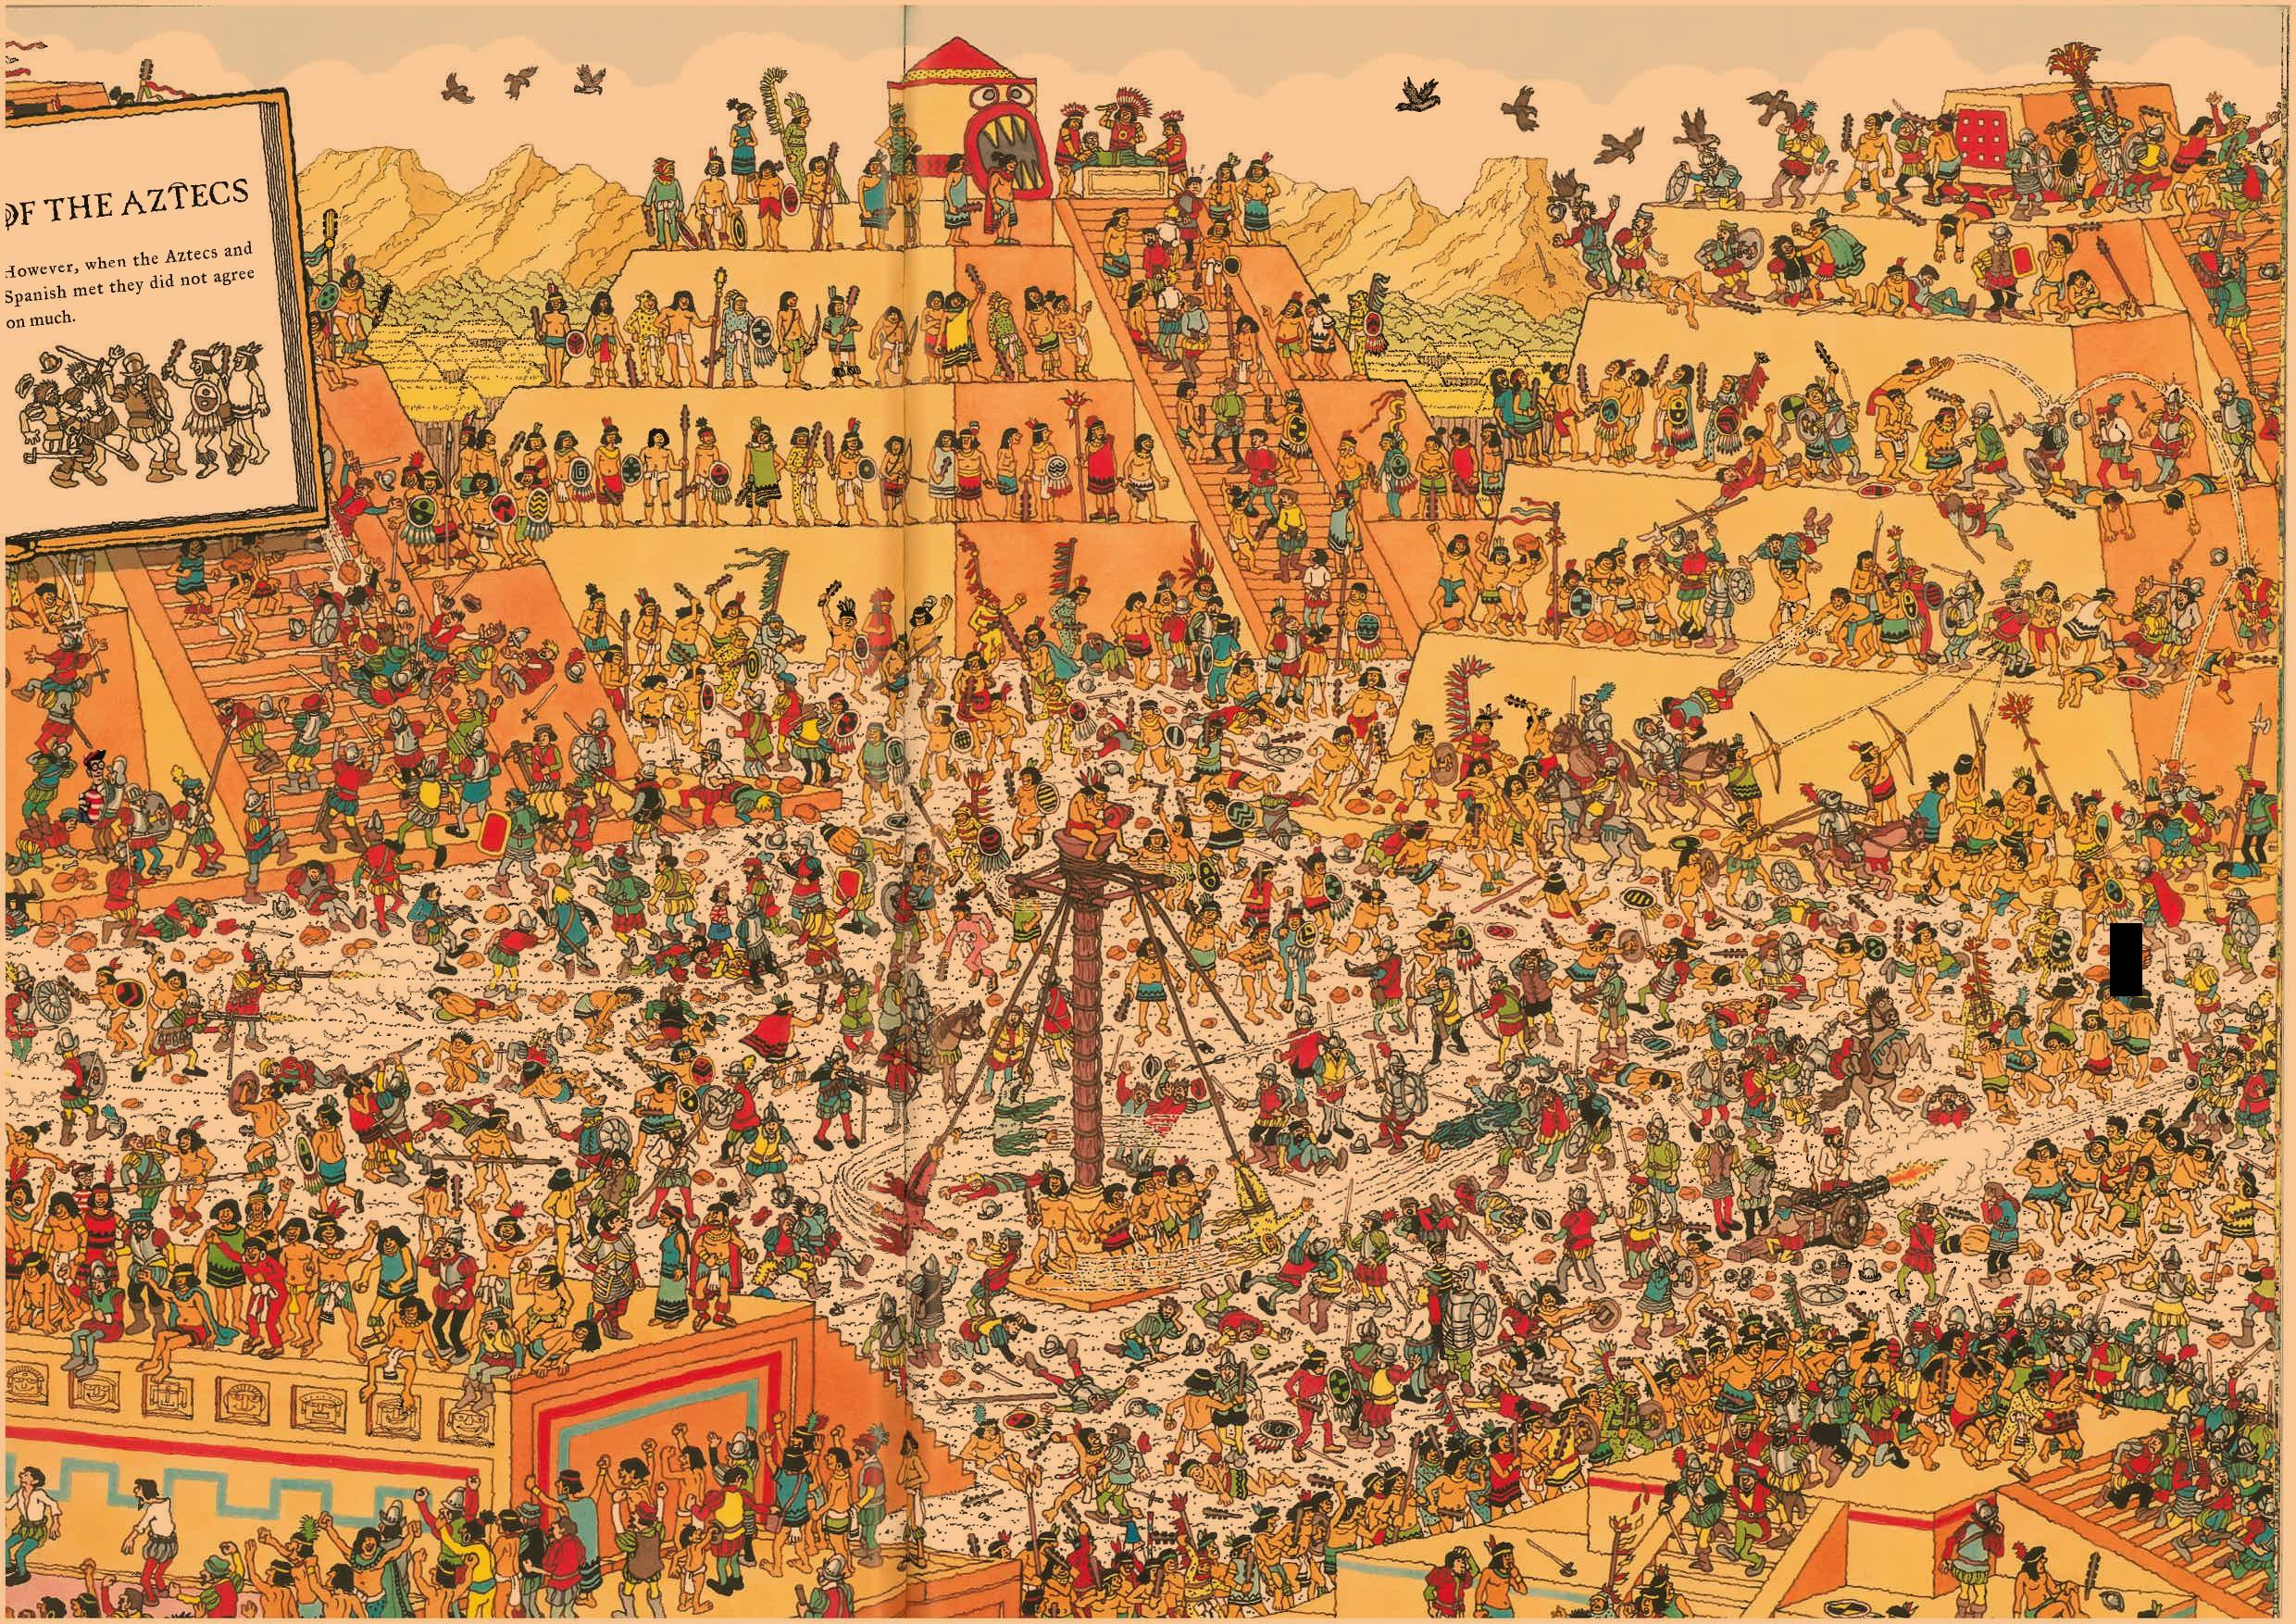waldos: (79, 750, 111, 823)
